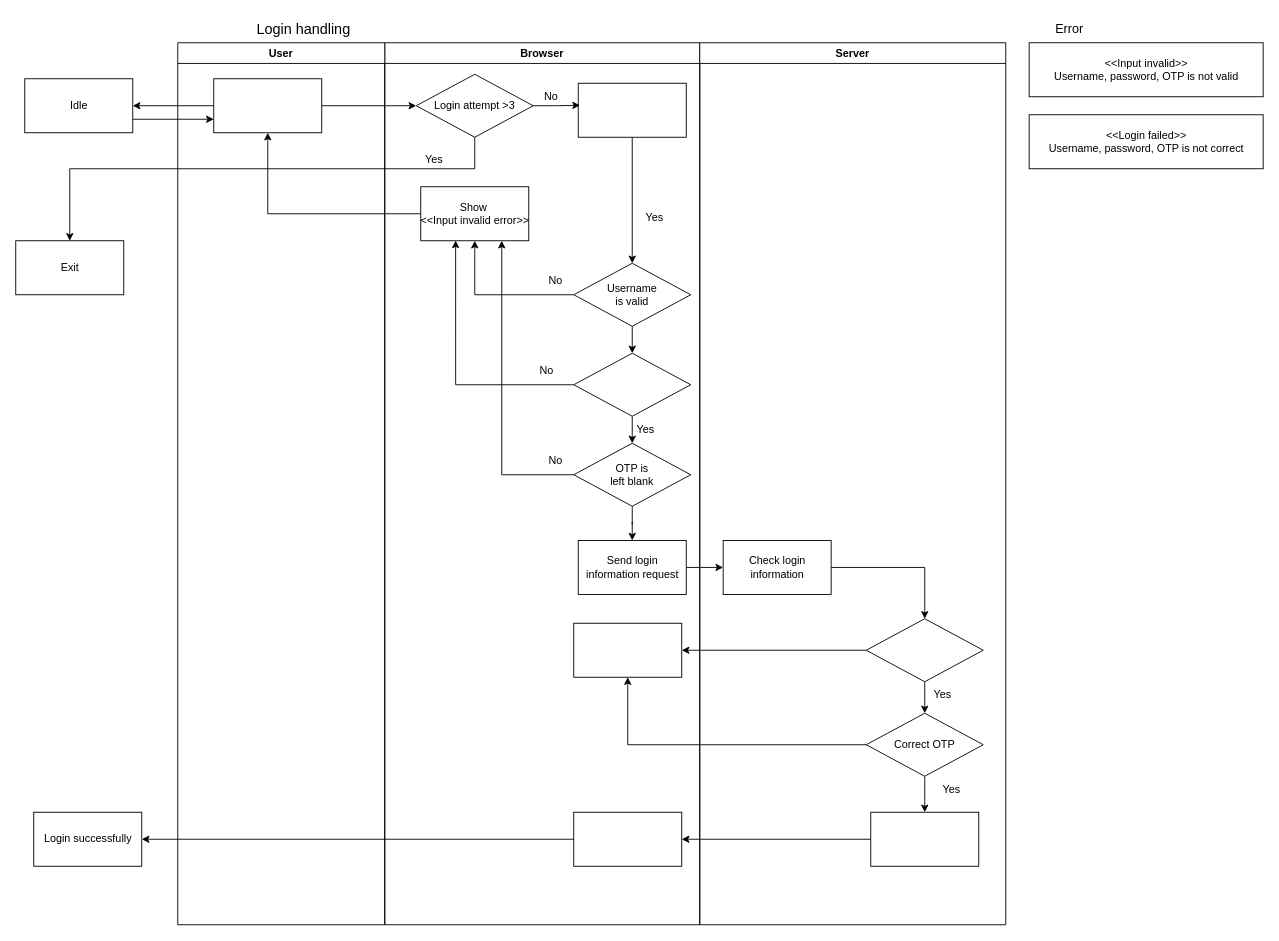
Image size: 1279x941. Some labels were removed from this diagram. The shapes that lost their labels are listed below. From the top down, each one's box as (x1, y1, x2, y2) in pixels, then its label:
(213, 78, 322, 133): Click login
(577, 82, 686, 137): Check input validation
(573, 352, 691, 416): Password is valid
(573, 622, 682, 677): Show <<Login failed>>
(865, 618, 983, 682): Correct username and password
(573, 811, 682, 866): Show login successful
(870, 811, 979, 866): Send login successful
